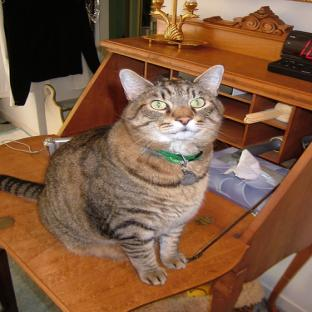Animal: (0, 65, 223, 285)
